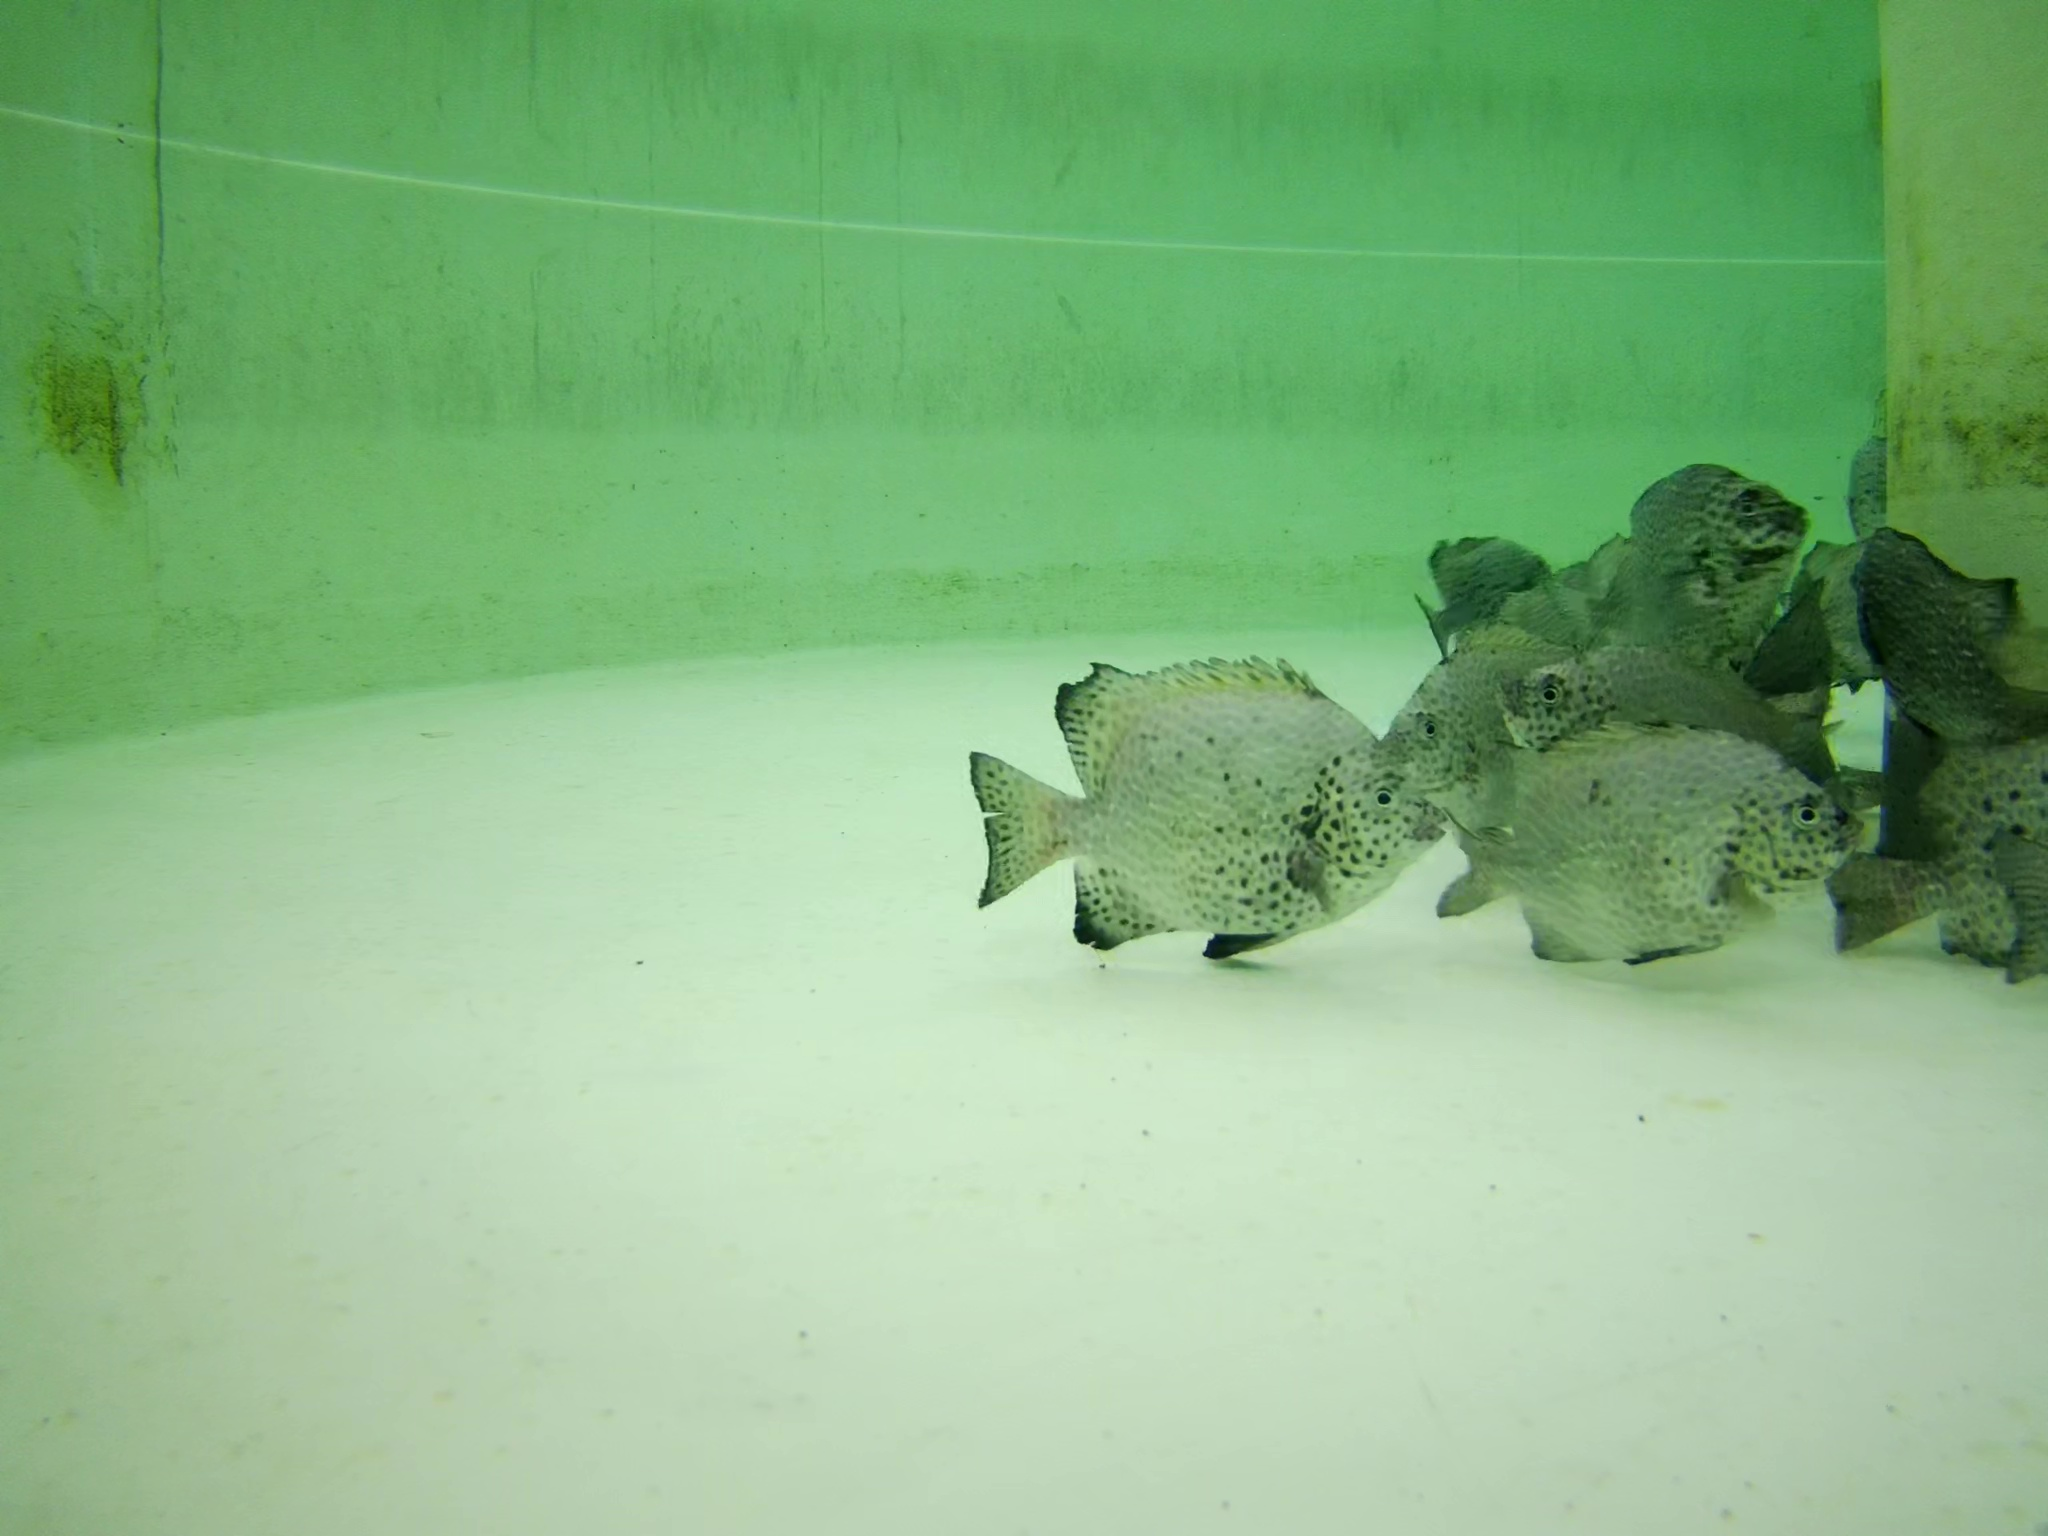fish: (968, 650, 1442, 955), (1432, 720, 1866, 968), (1503, 644, 1845, 794), (1835, 744, 2048, 966), (1859, 528, 2043, 737), (1388, 626, 1580, 808), (1627, 465, 1809, 573), (1414, 532, 1561, 636), (1993, 837, 2048, 995), (1843, 429, 1882, 536)
